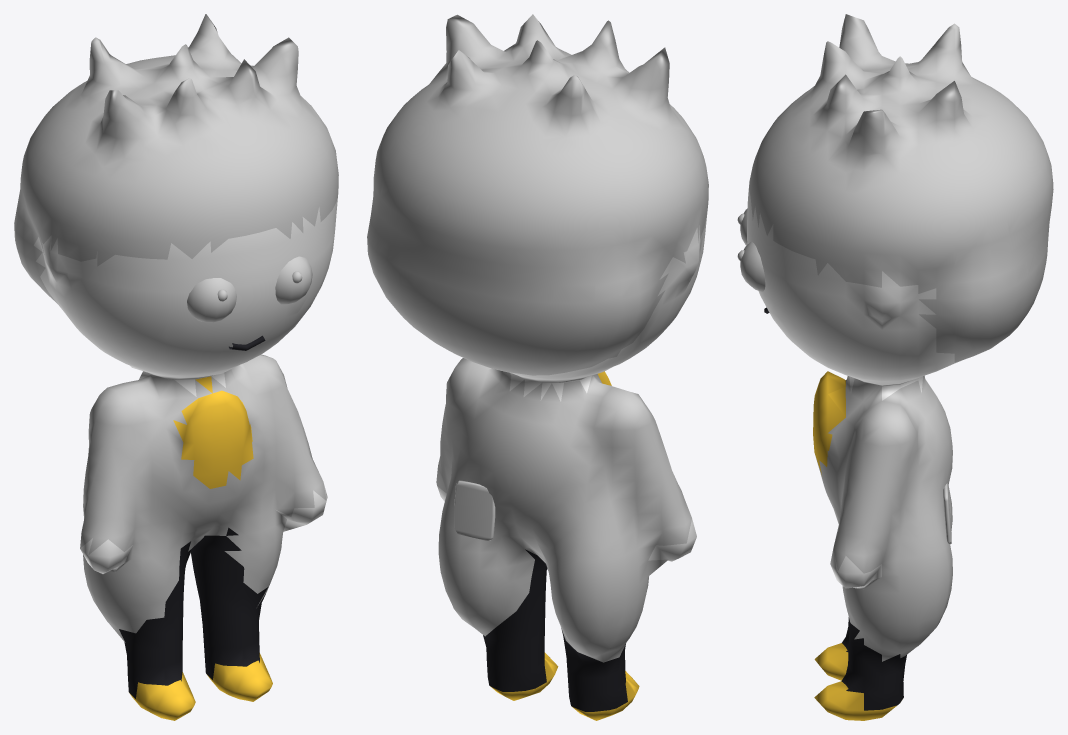
File: idol_boy_d.fbx
3 views of the same model, side by side, from view 1: azimuth 30°, elevation 25°; view 2: azimuth 150°, elevation 25°; view 3: azimuth 270°, elevation 25° (orthographic). The views are drawn at different scales.
Visible parts, largest first — view 1: idol_boy_d; view 2: idol_boy_d; view 3: idol_boy_d.
Part boxes in pixels (x1=…): idol_boy_d: x1=14, y1=14, x2=338, y2=720; idol_boy_d: x1=367, y1=14, x2=708, y2=720; idol_boy_d: x1=737, y1=14, x2=1053, y2=720.
Size of the model in its own units: 0.5799 by 1.28 by 0.5664.
